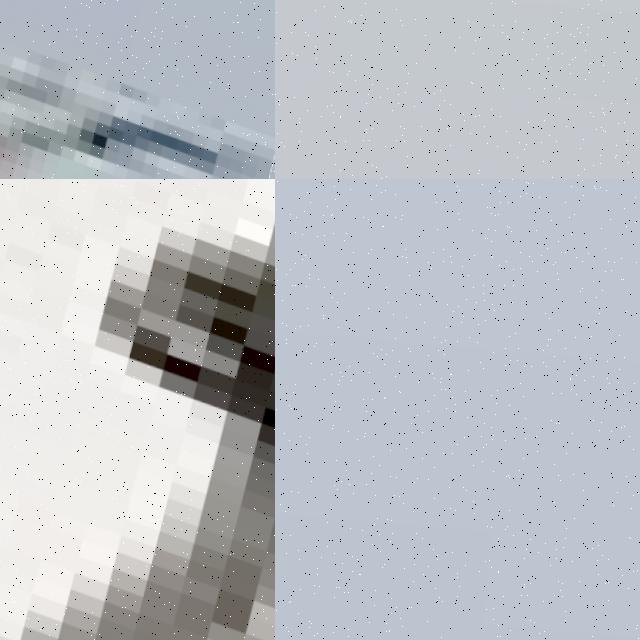0: (0, 0, 275, 179)
drone: (0, 179, 275, 640)
